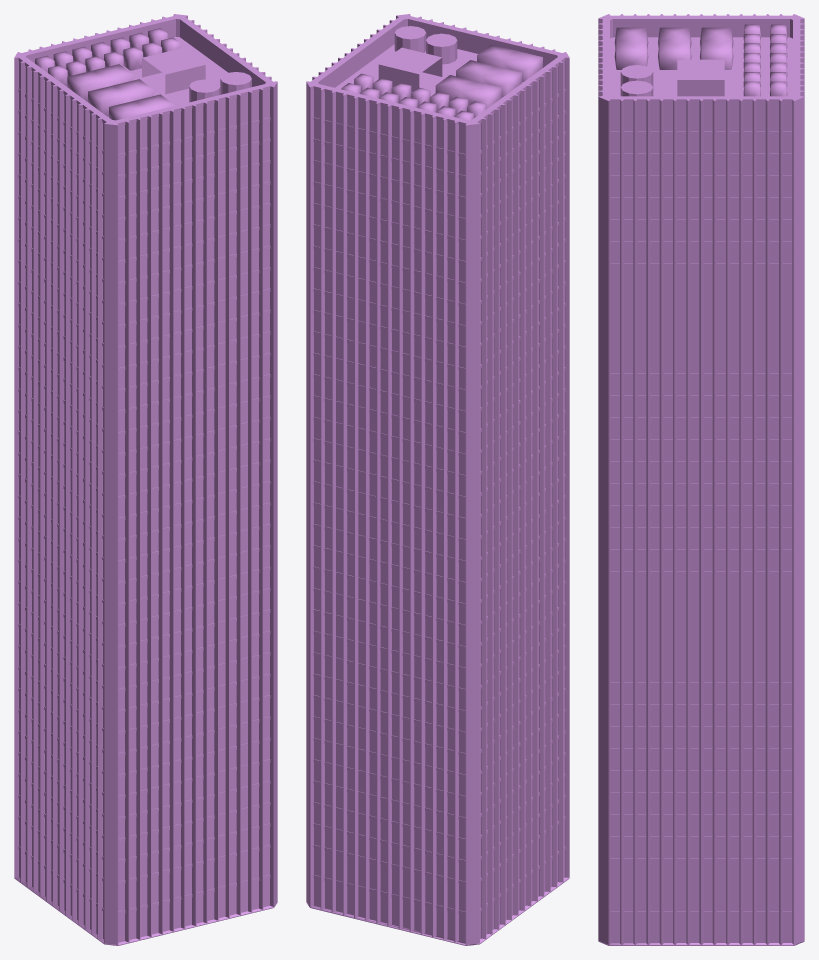
File: predio.obj
3 renders of one model, left to right at view 1: azimuth 30°, elevation 25°; view 2: azimuth 150°, elevation 25°; view 3: azimuth 270°, elevation 25°, orthographic. The views are drawn at different scales.
Visible parts, largest first — view 1: Object074; view 2: Object074; view 3: Object074.
Part boxes in pixels (x1,y1,x2,y2): Object074: (14,14,277,945); Object074: (306,14,569,945); Object074: (598,14,804,945).
Size of the model in its own units: 40000 by 181191 by 40000.
